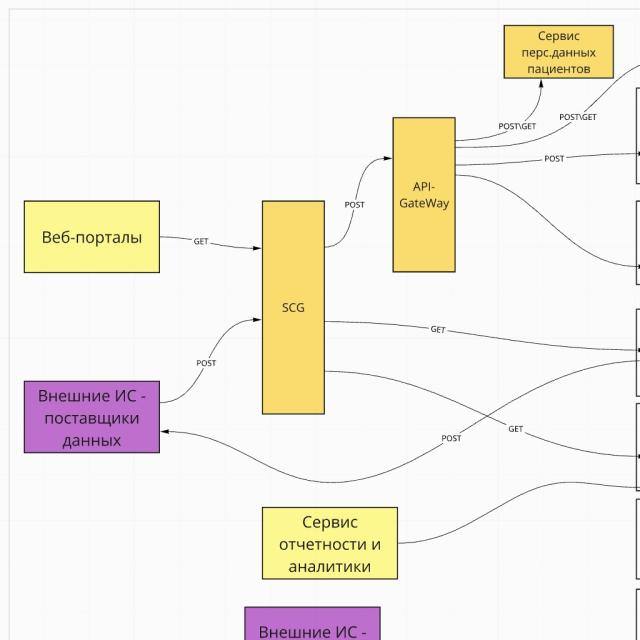arrow: (160, 358, 637, 485), (456, 79, 543, 142), (202, 310, 261, 357), (345, 148, 392, 200), (161, 234, 261, 252)
rectangle: (262, 201, 324, 414), (24, 381, 159, 453), (24, 201, 159, 273), (263, 507, 398, 579), (393, 118, 455, 272), (504, 25, 613, 78)
text_region: (559, 113, 598, 122), (498, 122, 536, 130), (545, 154, 565, 164), (507, 423, 525, 434), (431, 324, 446, 336), (442, 434, 462, 443), (345, 201, 364, 209)
